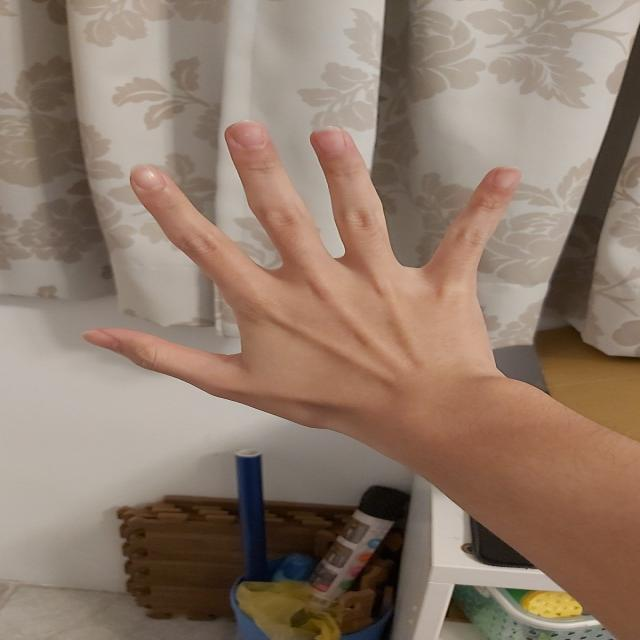Hand: (78, 117, 529, 462)
